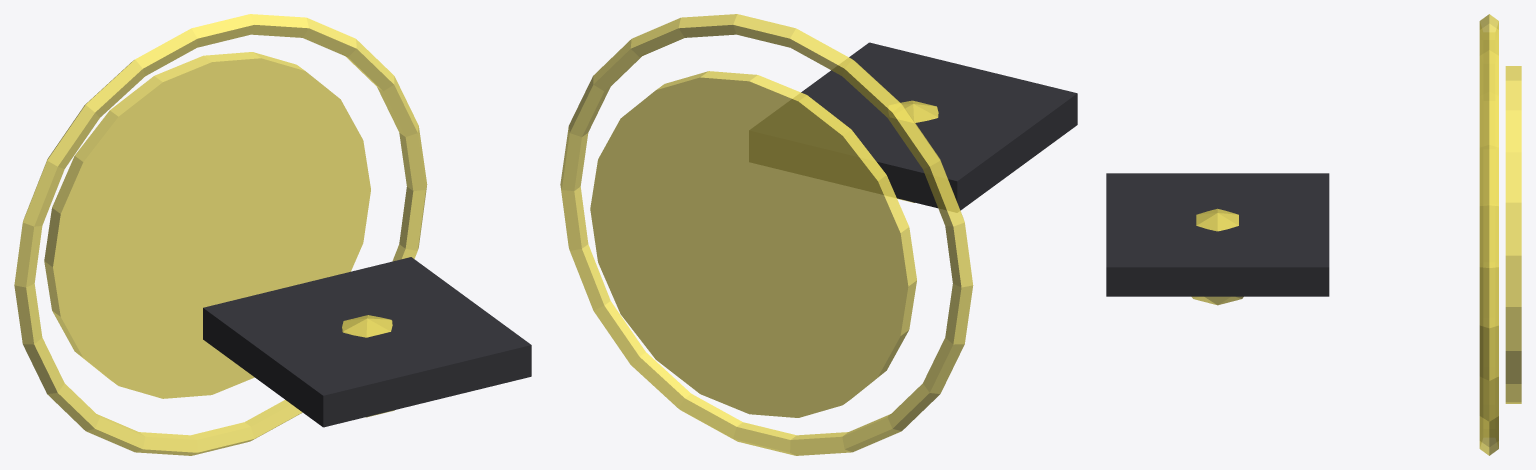
Rendered from damage_number_proxy.glb.
The picture shows the model from 3 angles, left to right: view 1: azimuth 30°, elevation 25°; view 2: azimuth 150°, elevation 25°; view 3: azimuth 270°, elevation 25°; orthographic projection. The views are drawn at different scales.
Visible parts, largest first — view 1: marker_disc, icon_panel, marker_ring, icon_dot; view 2: marker_disc, marker_ring, icon_panel, icon_dot; view 3: icon_panel, marker_ring, marker_disc, icon_dot.
Boxes of the visible parts, x1,y1,x2,y2 form: marker_disc: (44,52,370,398); icon_panel: (203,257,531,427); marker_ring: (14,14,427,455); icon_dot: (342,315,394,417); marker_disc: (590,71,916,417); marker_ring: (560,14,973,455); icon_panel: (801,42,1077,210); icon_dot: (897,100,938,202); icon_panel: (1106,173,1329,296); marker_ring: (1479,14,1498,455); marker_disc: (1505,66,1521,403); icon_dot: (1191,208,1243,305).
Bounding box in the file's own units: 1.09 × 1.08 × 1.02.
